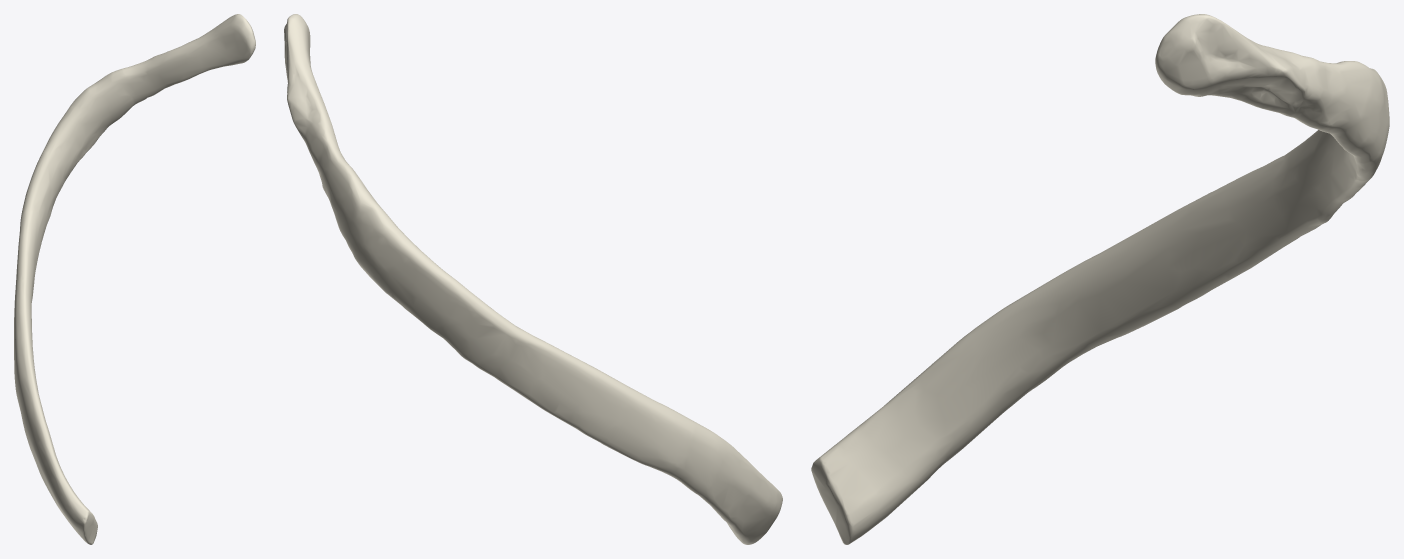
The picture shows the model from 3 angles, left to right: view 1: azimuth 30°, elevation 25°; view 2: azimuth 150°, elevation 25°; view 3: azimuth 270°, elevation 25°; orthographic projection. The views are drawn at different scales.
Parts seen in each view (by area): view 1: ZA_4a79b7c42a45c3c7; view 2: ZA_4a79b7c42a45c3c7; view 3: ZA_4a79b7c42a45c3c7.
Boxes of the visible parts, left/top/right/bottom form: ZA_4a79b7c42a45c3c7: left=14, top=14, right=255, bottom=544; ZA_4a79b7c42a45c3c7: left=284, top=14, right=782, bottom=544; ZA_4a79b7c42a45c3c7: left=811, top=14, right=1389, bottom=544.
Size of the model in its own units: 0.1129 by 0.1568 by 0.1094.
